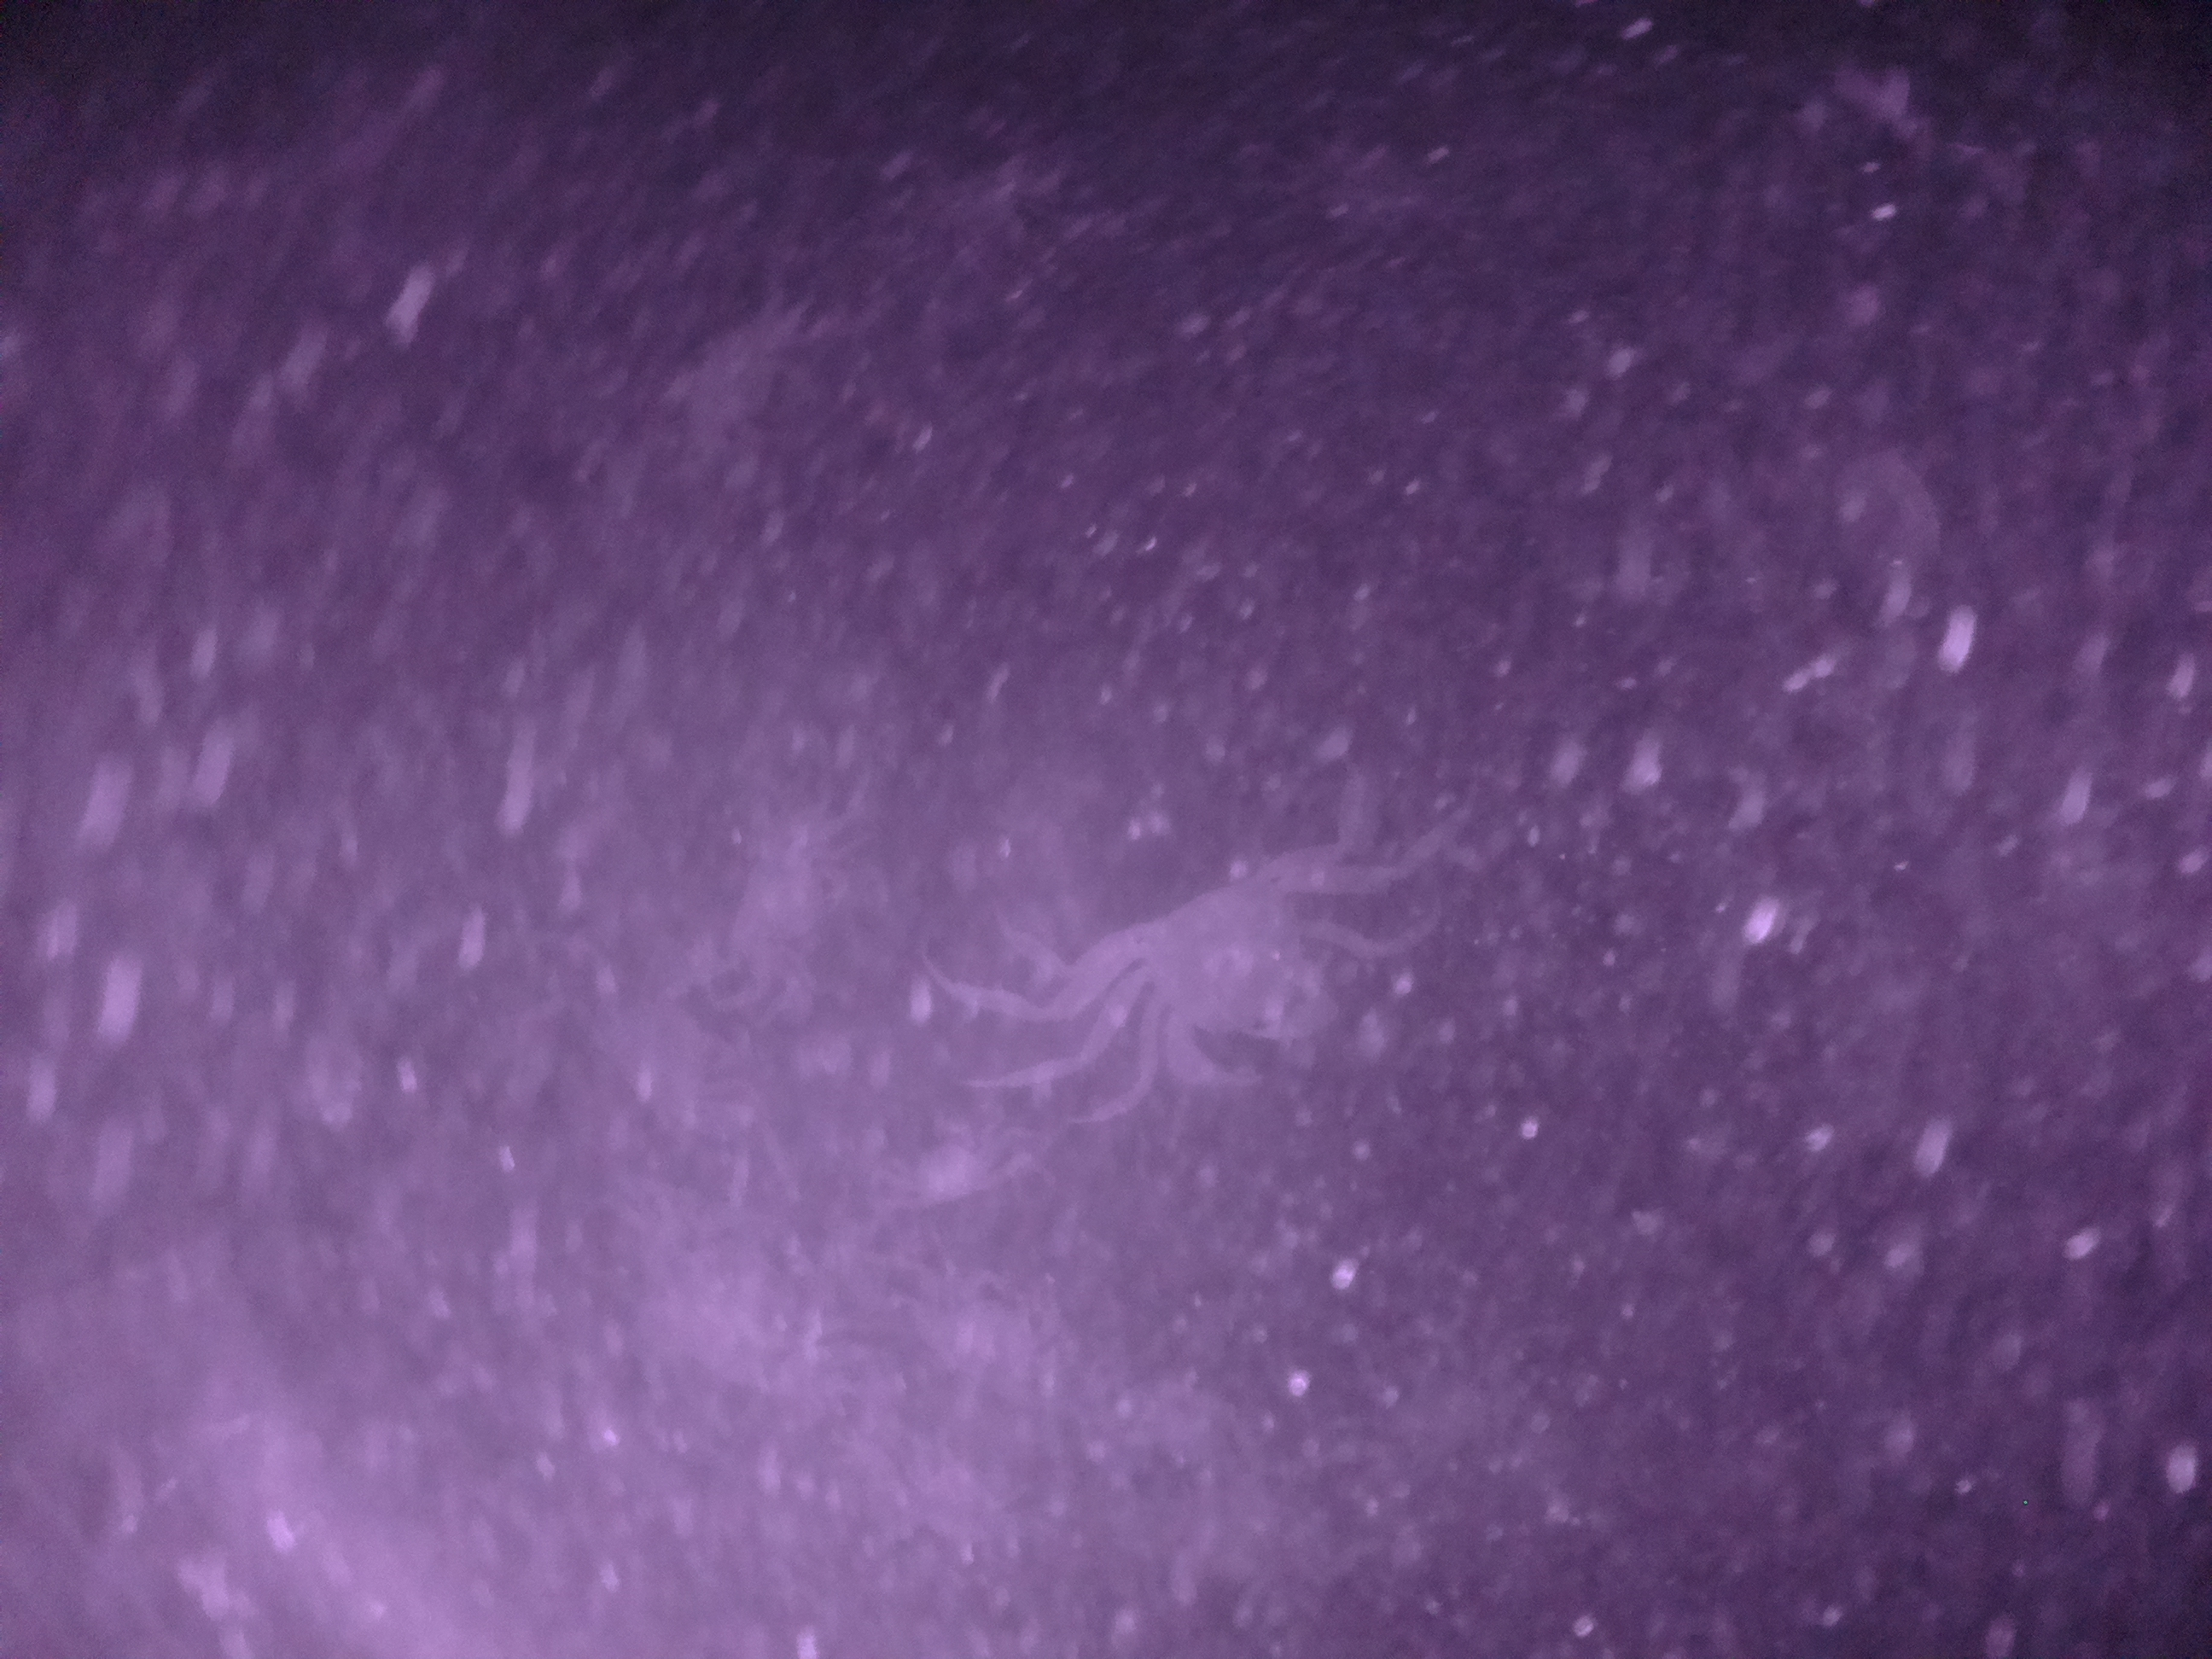Crab: (1080, 824, 1374, 1103)
